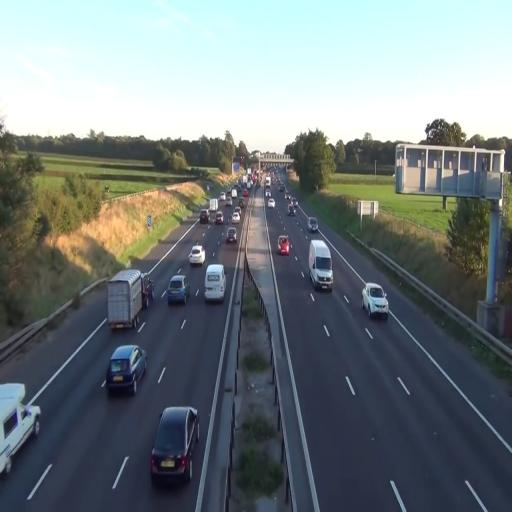vehicle: (150, 404, 199, 488), (0, 382, 41, 478), (107, 269, 145, 333), (106, 344, 148, 396), (308, 237, 334, 291), (362, 282, 389, 318), (204, 264, 226, 302), (166, 273, 188, 307), (188, 244, 206, 267), (142, 274, 154, 308), (277, 234, 290, 255), (226, 226, 237, 245), (308, 217, 319, 234), (198, 208, 209, 224)
